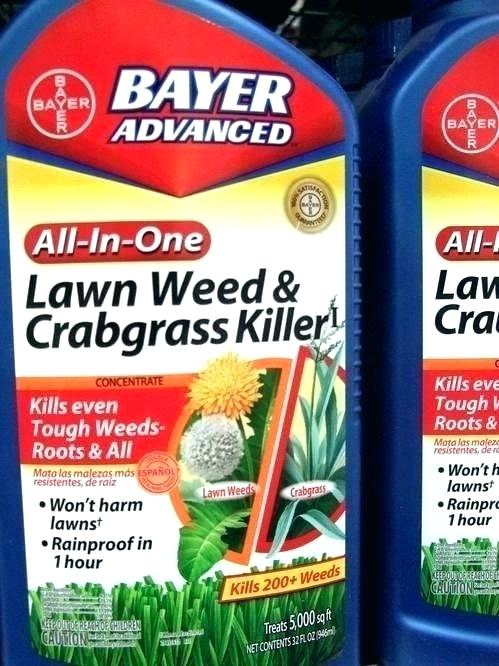crabgrass: (278, 369, 348, 535)
